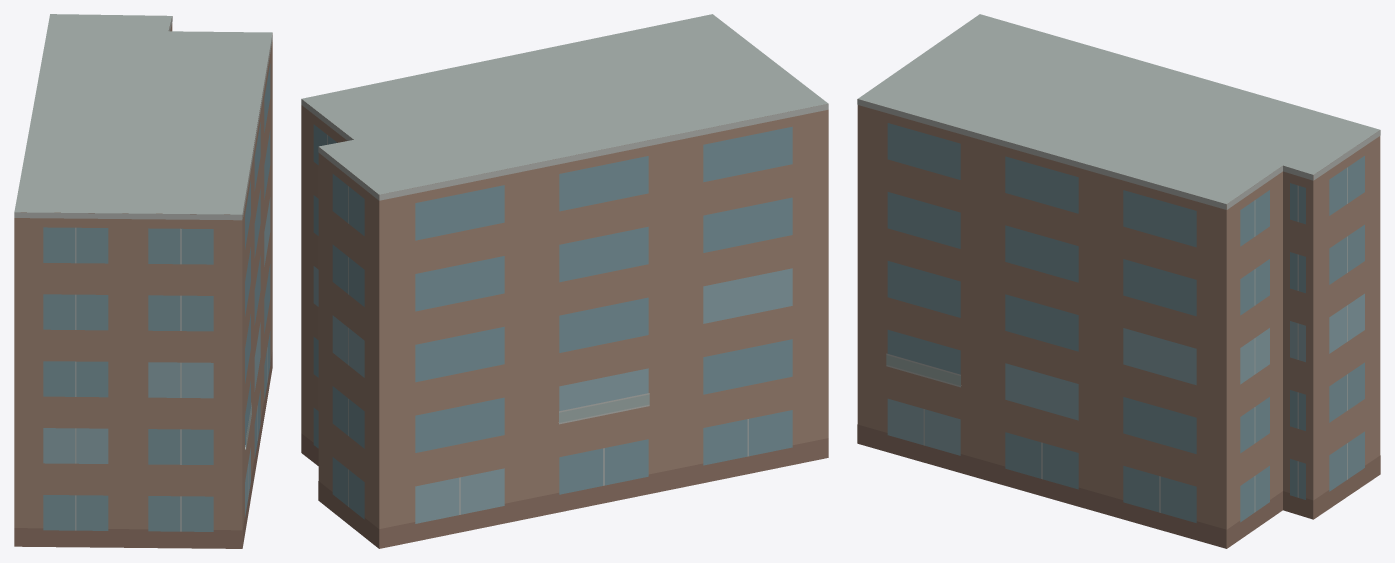
Rendered from survey-upis-32493564.glb.
3 views of the same model, side by side, from view 1: azimuth 30°, elevation 25°; view 2: azimuth 150°, elevation 25°; view 3: azimuth 270°, elevation 25° (orthographic). The views are drawn at different scales.
Visible parts, largest first — view 1: survey-upis-32493564.tmp; view 2: survey-upis-32493564.tmp; view 3: survey-upis-32493564.tmp.
Boxes of the visible parts, x1,y1,x2,y2 form: survey-upis-32493564.tmp: (14,14,272,548); survey-upis-32493564.tmp: (301,14,828,548); survey-upis-32493564.tmp: (857,14,1380,548).
Bounding box in the file's own units: 17.05 × 14.4 × 19.81.
